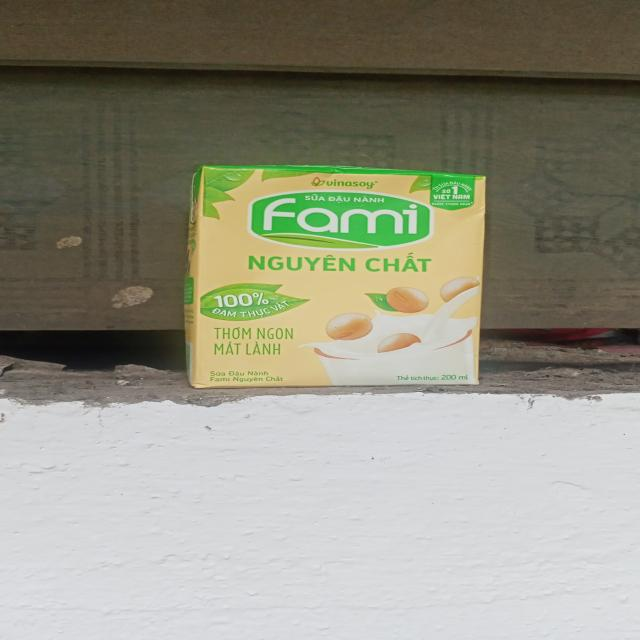Fami: (182, 165, 498, 390)
